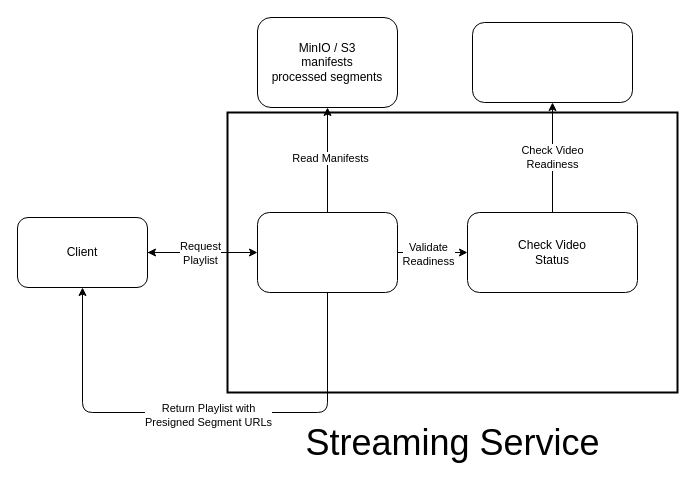
Image size: 696x490. Some labels were removed from this diagram. Here are the shapes that lost their labels. From the top down, the box of each, then its label:
(472, 22, 632, 102): Postgres
(256, 212, 398, 292): Streaming API
